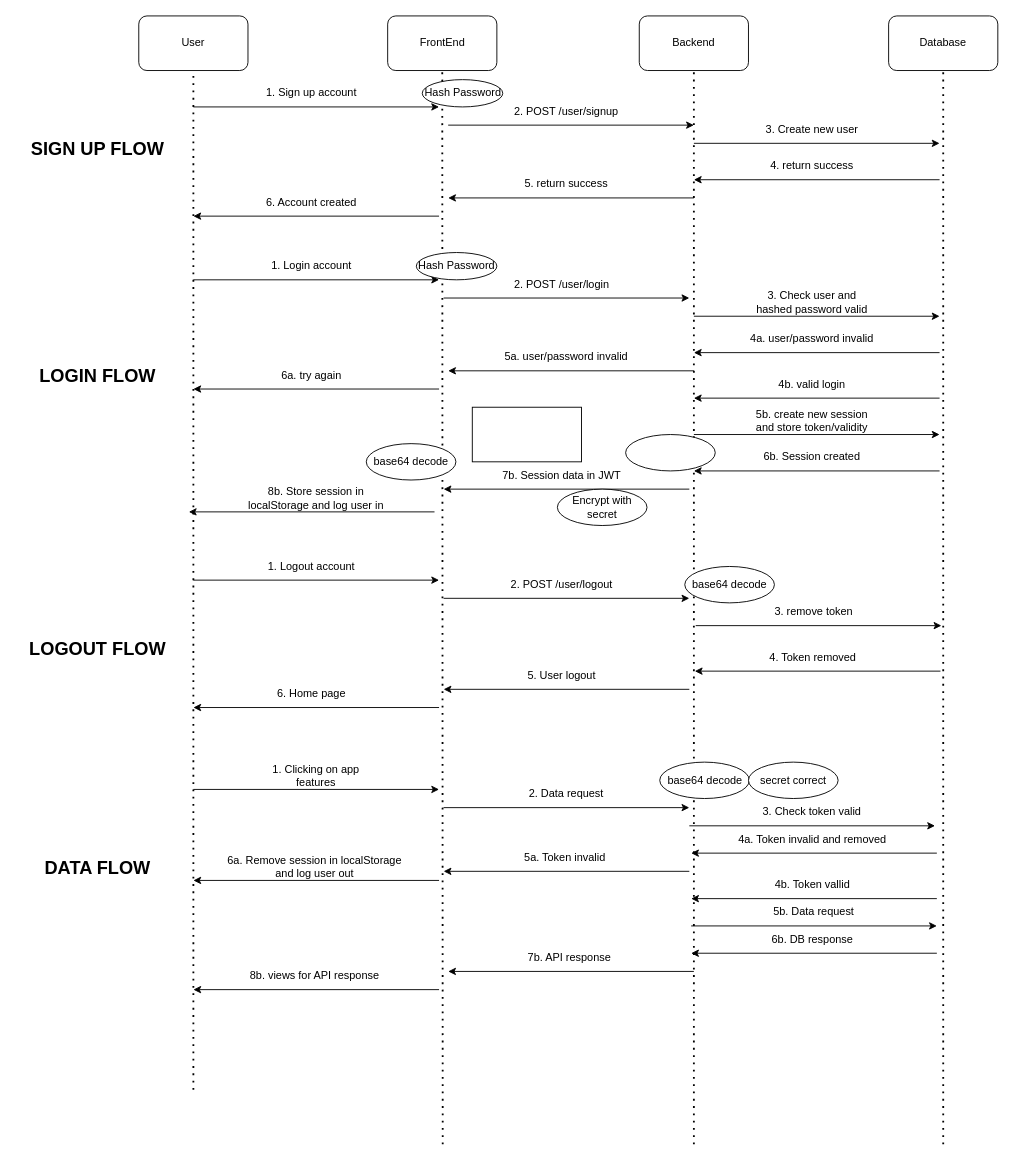
This 1014x1162 diagram has some shape labels left out. Each missing label, with the centre of its shape:
base64 Encode: the point at 670,452
Session Data: 1. Token 2. Username 3. Validity: the point at 526,434
